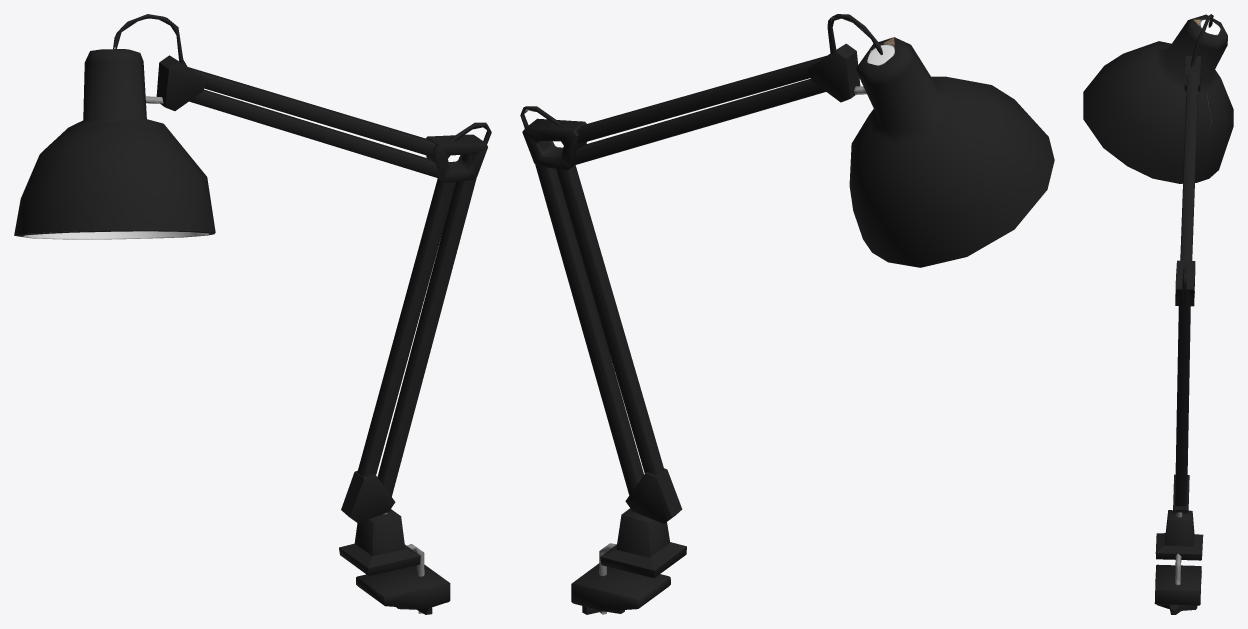
The model's file is SM_Drawing_Table_Adjustable_Lamp.glb.
3 views of the same model, side by side, from view 1: azimuth 30°, elevation 25°; view 2: azimuth 150°, elevation 25°; view 3: azimuth 270°, elevation 25° (orthographic). The views are drawn at different scales.
Parts seen in each view (by area): view 1: SM_Drawing_Table_Adjustable_Lamp; view 2: SM_Drawing_Table_Adjustable_Lamp; view 3: SM_Drawing_Table_Adjustable_Lamp.
Part boxes in pixels (left/top/right/bottom): SM_Drawing_Table_Adjustable_Lamp: left=14, top=14, right=491, bottom=614; SM_Drawing_Table_Adjustable_Lamp: left=520, top=14, right=1054, bottom=614; SM_Drawing_Table_Adjustable_Lamp: left=1083, top=14, right=1233, bottom=614.
Size of the model in its own units: 0.505 by 0.6483 by 0.1769.
1 material, 1 textured.
